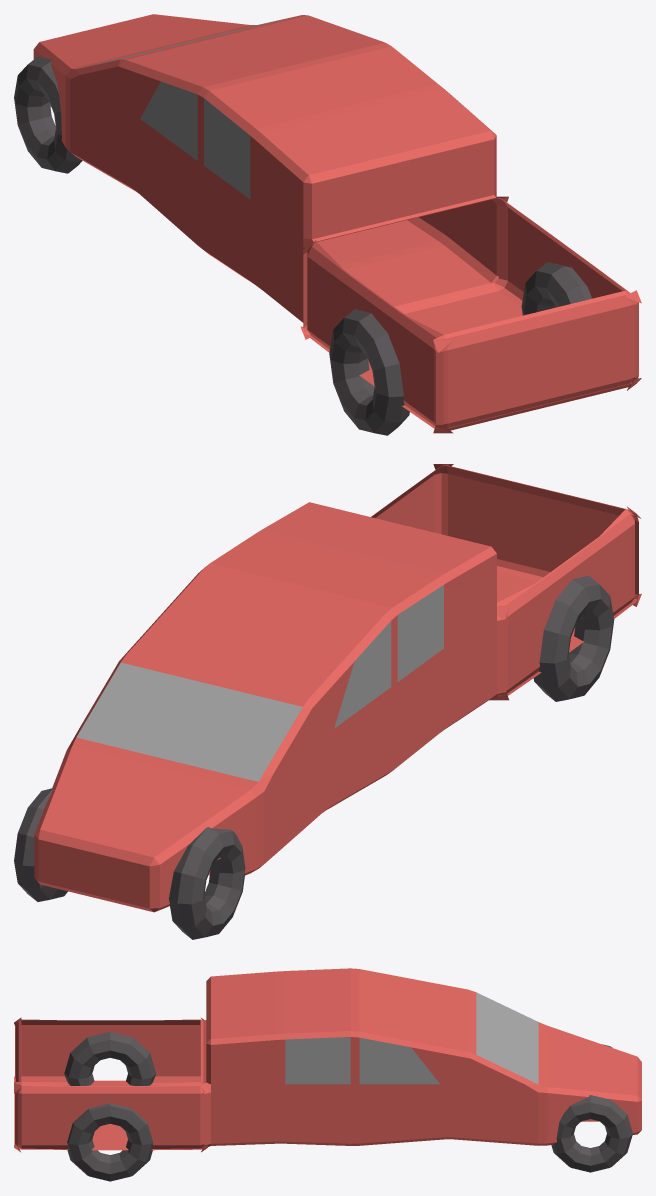
Rendered from RedCar.fbx.
3 views of the same model, one above another, from view 1: azimuth 30°, elevation 25°; view 2: azimuth 150°, elevation 25°; view 3: azimuth 270°, elevation 25° (orthographic). The views are drawn at different scales.
Visible parts, largest first — view 1: Cube.006; view 2: Cube.006; view 3: Cube.006.
Boxes of the visible parts, <box> form: Cube.006: <box>14,14,641,435</box>; Cube.006: <box>14,464,641,939</box>; Cube.006: <box>14,968,641,1181</box>.
Bounding box in the file's own units: 440 × 395 × 1499.
